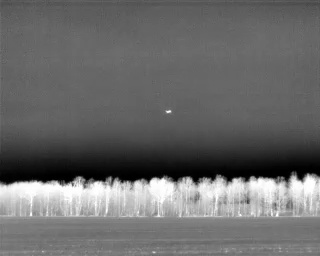DRONE: (163, 106, 175, 117)
